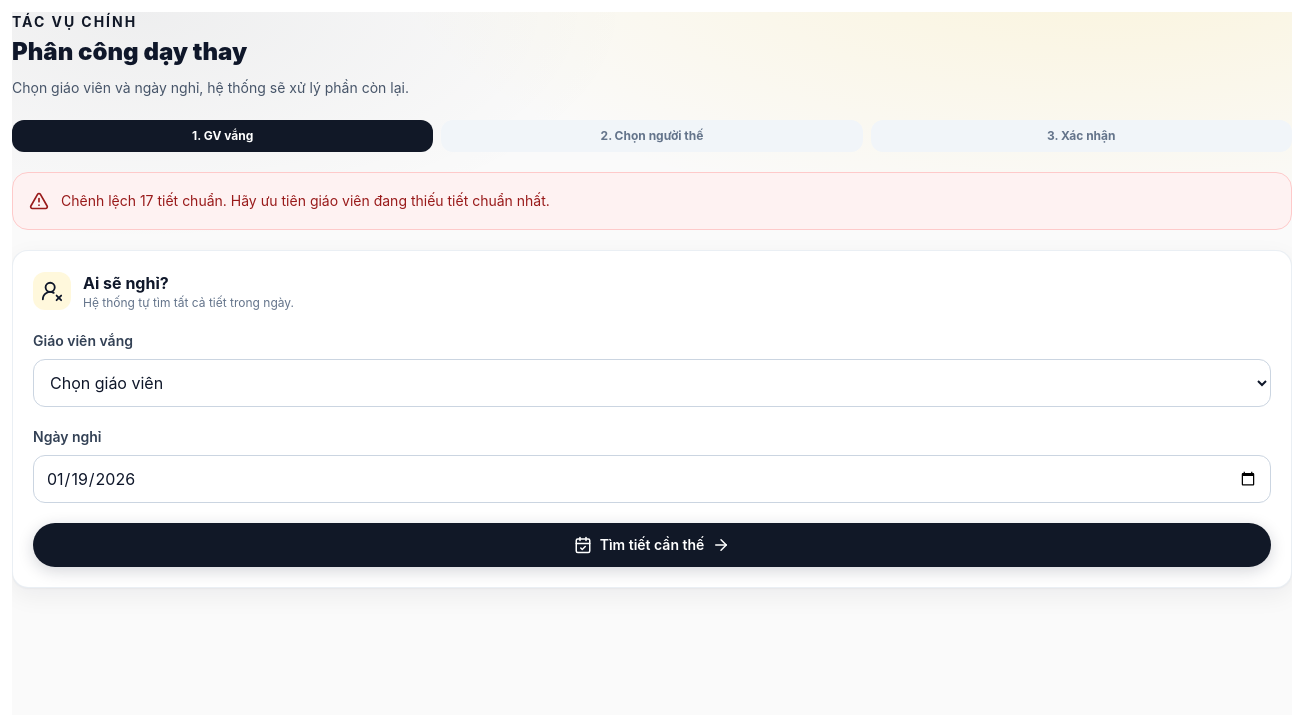
Test: NewSubstitution flow › hiển thị buổi và tiết trong buổi cho tiết buổi chiều
The image size is (1292, 715).
Select "Nguyễn Minh Toàn — Giáo dục thể chất" in the dropdown labelled "Giáo viên vắng": coordinates (652, 383) 33,359 -> 1271,407
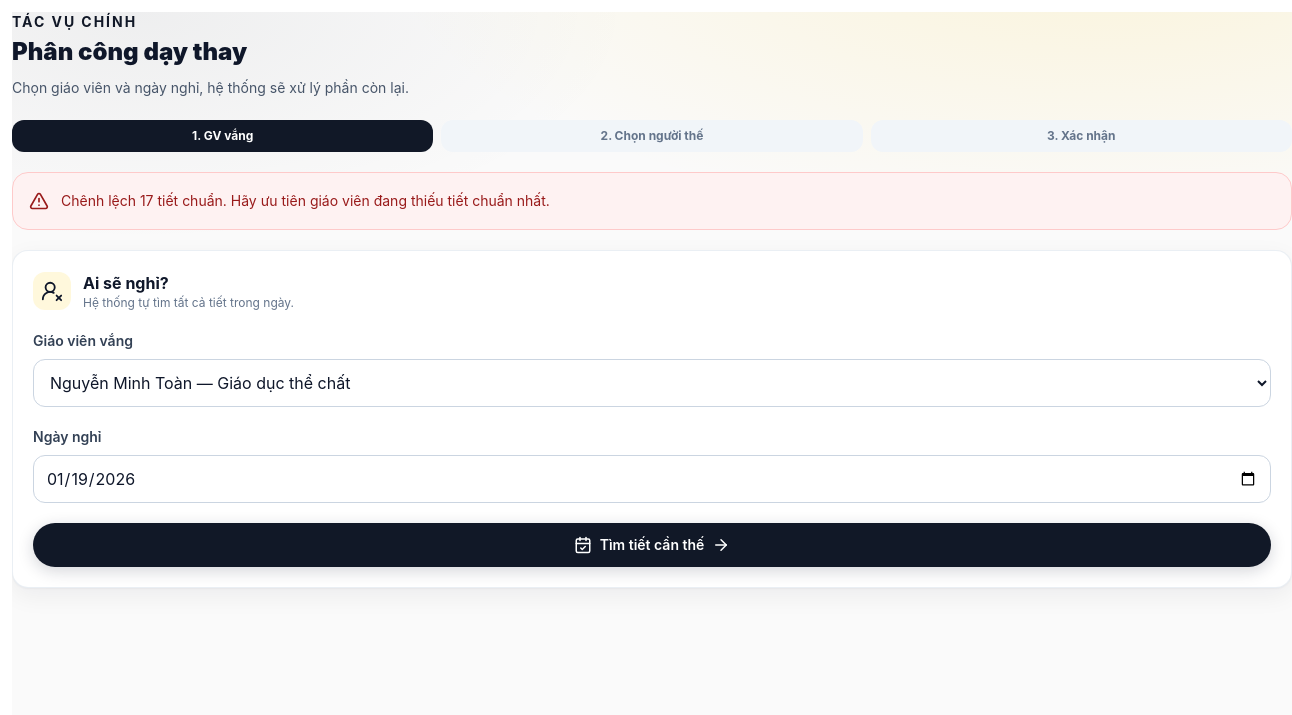
In the date field labelled "Ngày nghỉ": coordinates (652, 479) 33,455 -> 1271,503, type "2026-01-23"
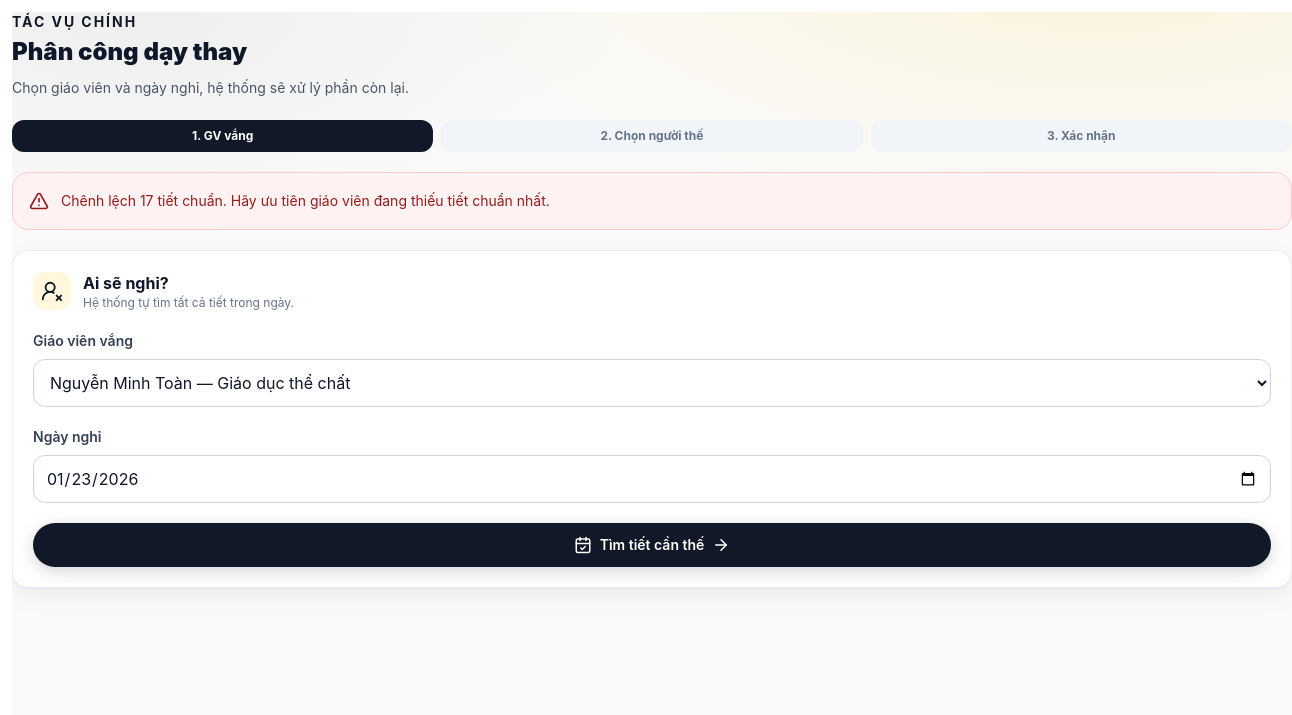
Click the button "Tìm tiết cần thế": coordinates (652, 545) 33,523 -> 1271,567
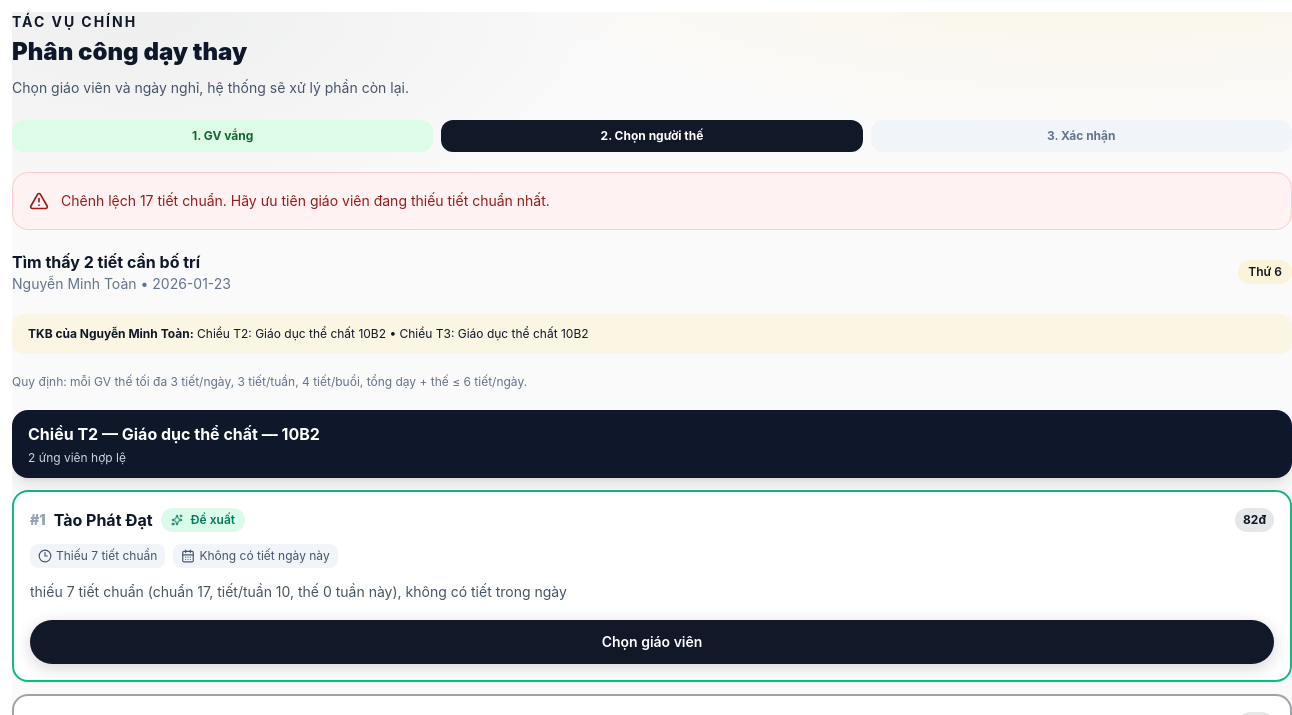
Expected: the text "Chiều T" is shown, 197,326 -> 588,341
